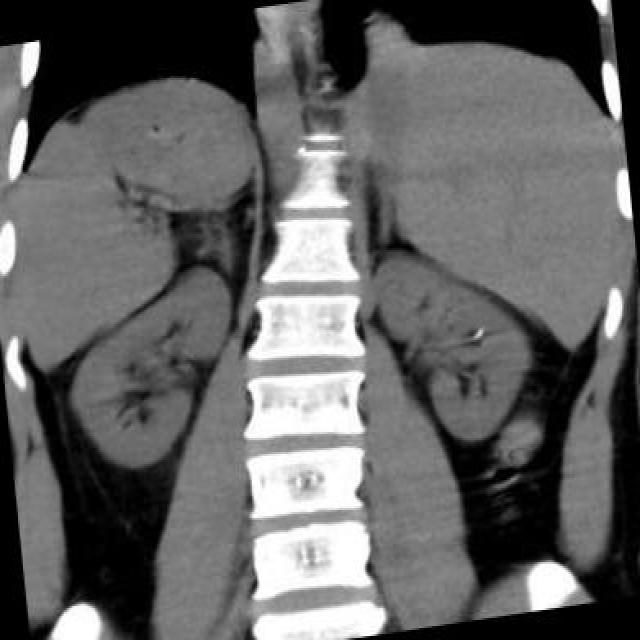Tas_Var: (466, 323, 488, 341)
